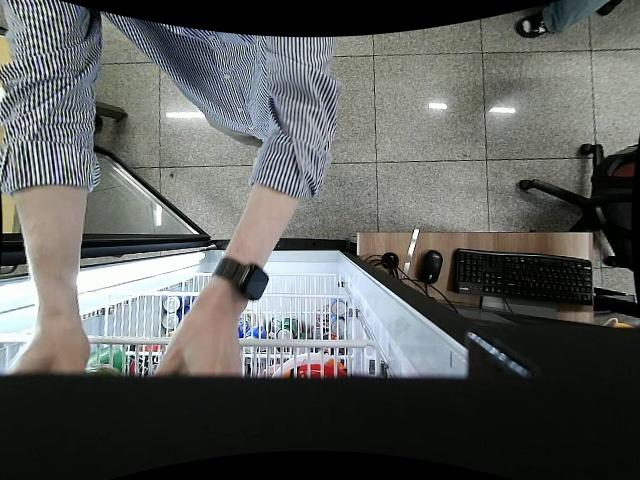00_hand: (152, 318, 244, 378), (0, 326, 91, 375)
